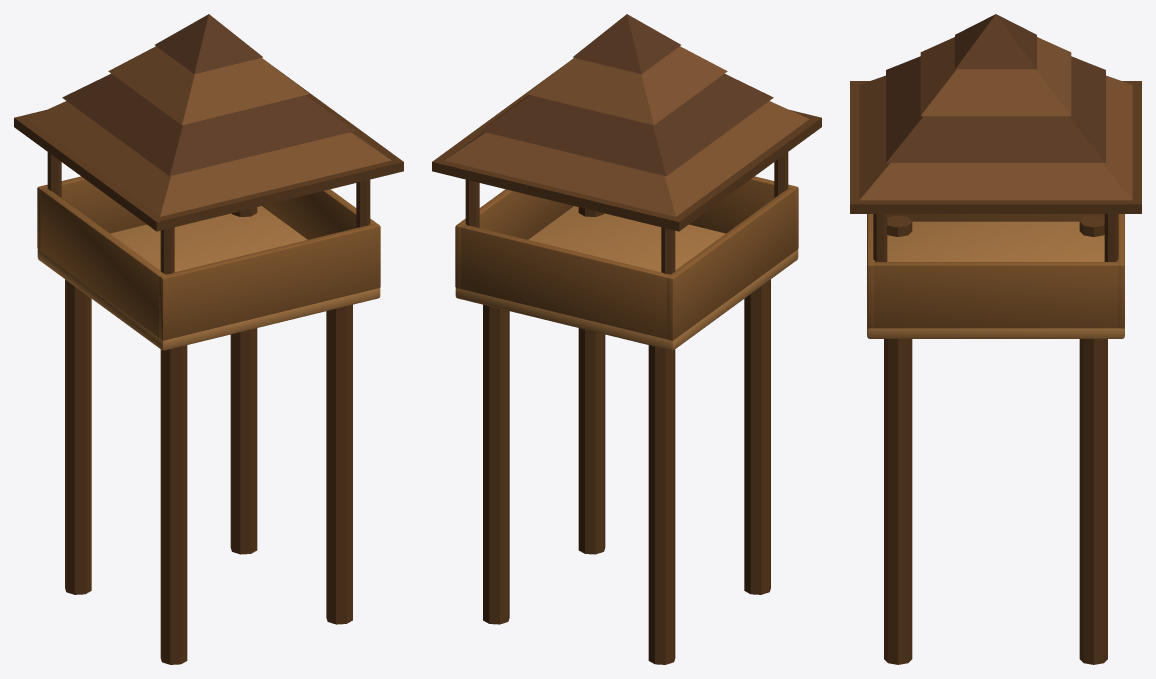
File: naroznik_etap2.glb
The picture shows the model from 3 angles, left to right: view 1: azimuth 30°, elevation 25°; view 2: azimuth 150°, elevation 25°; view 3: azimuth 270°, elevation 25°; orthographic projection. The views are drawn at different scales.
Parts seen in each view (by area): view 1: naroznik_etap2; view 2: naroznik_etap2; view 3: naroznik_etap2.
Part boxes in pixels (box(x1,y1,x2,y2)): naroznik_etap2: box(14, 14, 403, 664); naroznik_etap2: box(432, 14, 821, 664); naroznik_etap2: box(850, 14, 1141, 664).
Bounding box in the file's own units: 3.28 × 7.49 × 3.28.
